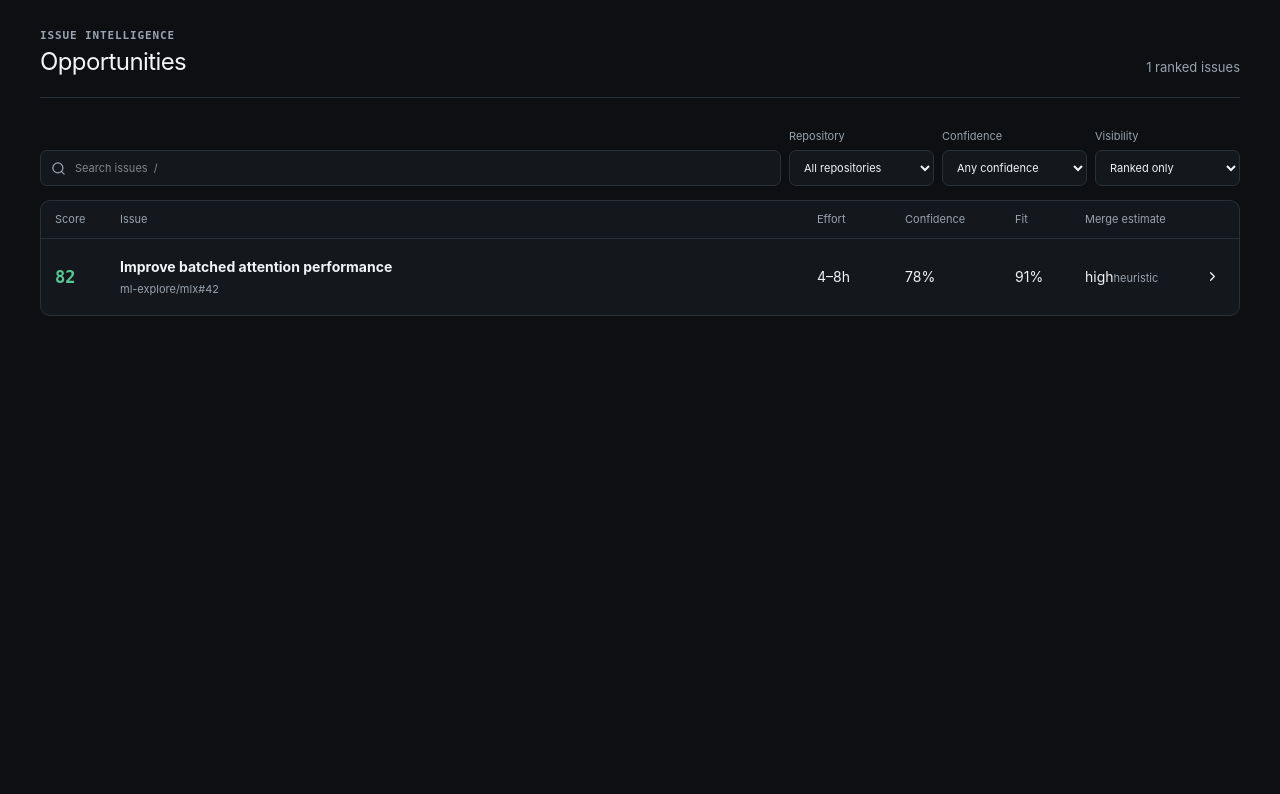
it: keeps filters in URL state and appends feedback
Type "attention" into the field labelled "Search issues" at (410, 168), box [40,150,781,186]
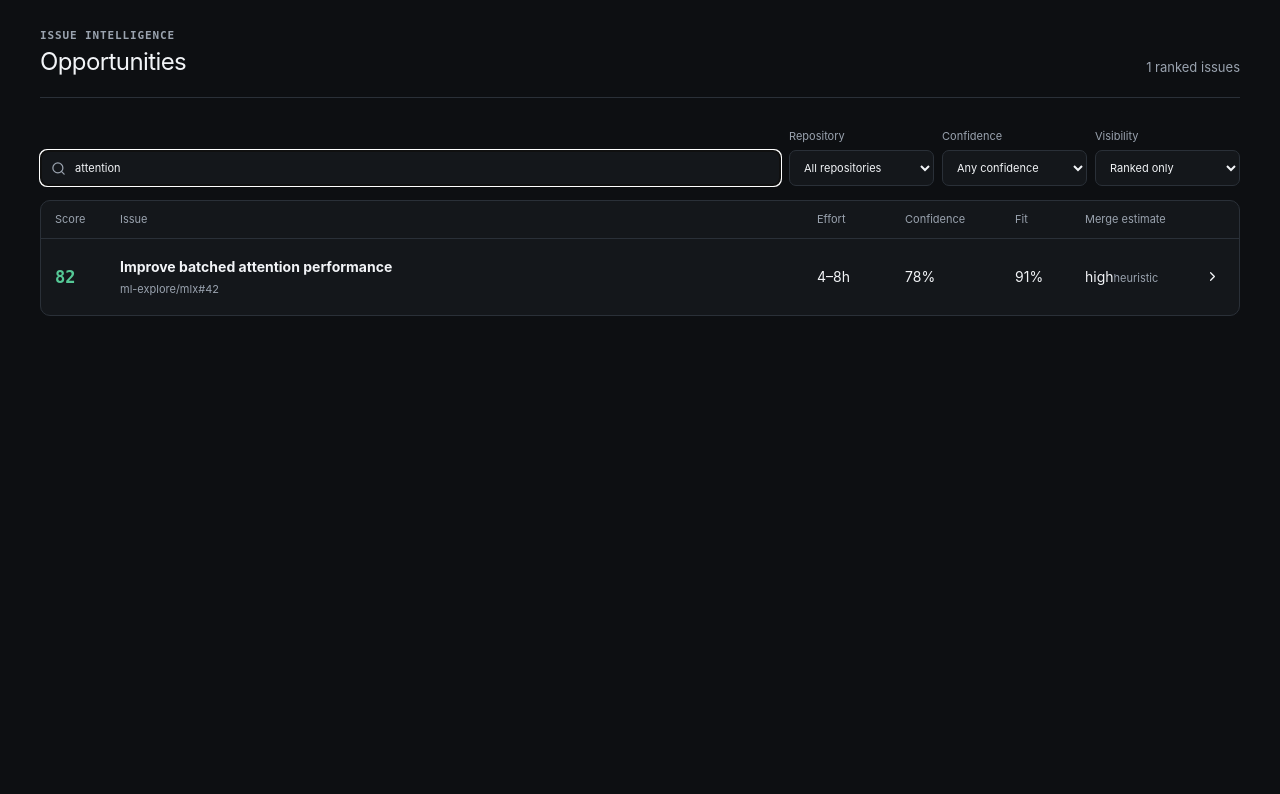
Click the button with aria-label "Open ml-explore/mlx issue 42" at (256, 266), box [41,238,1239,314]
(page scrolled)
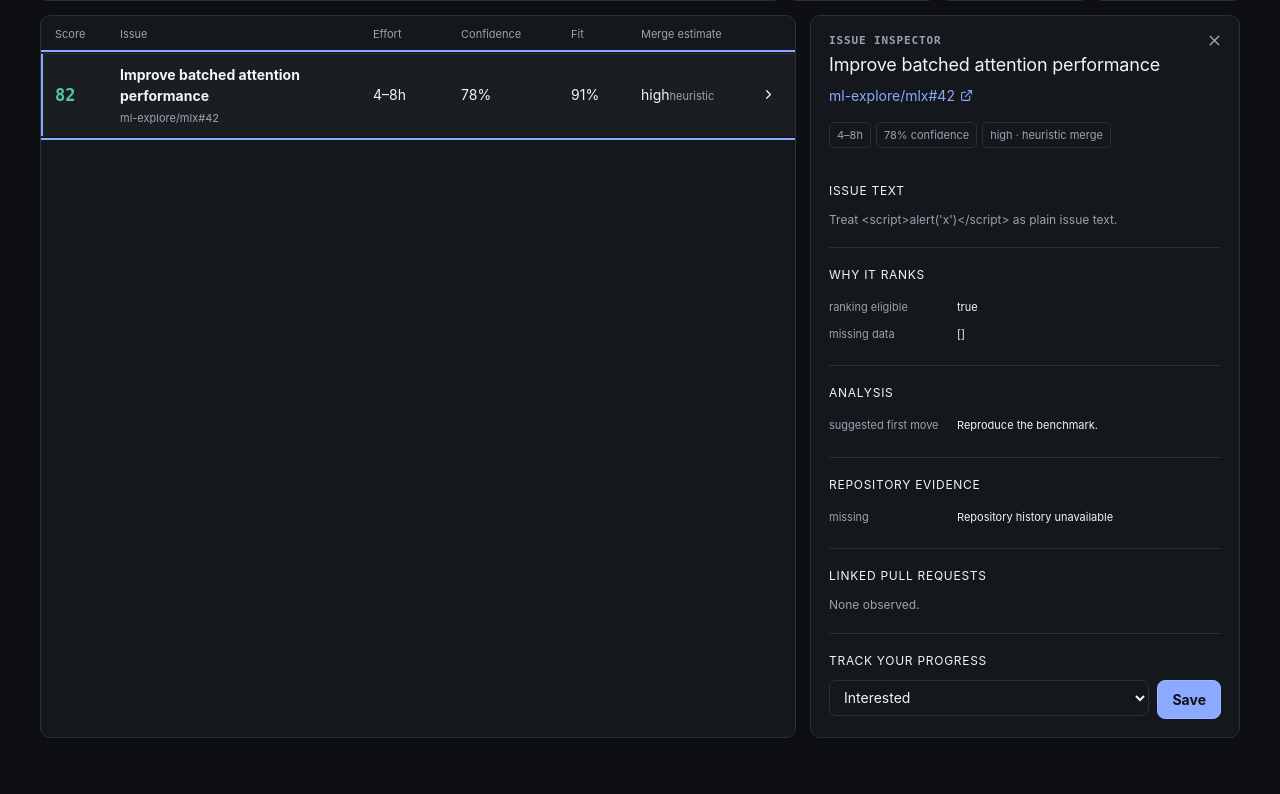
Click the button "Save" at (1189, 699), box [1158,680,1221,719]
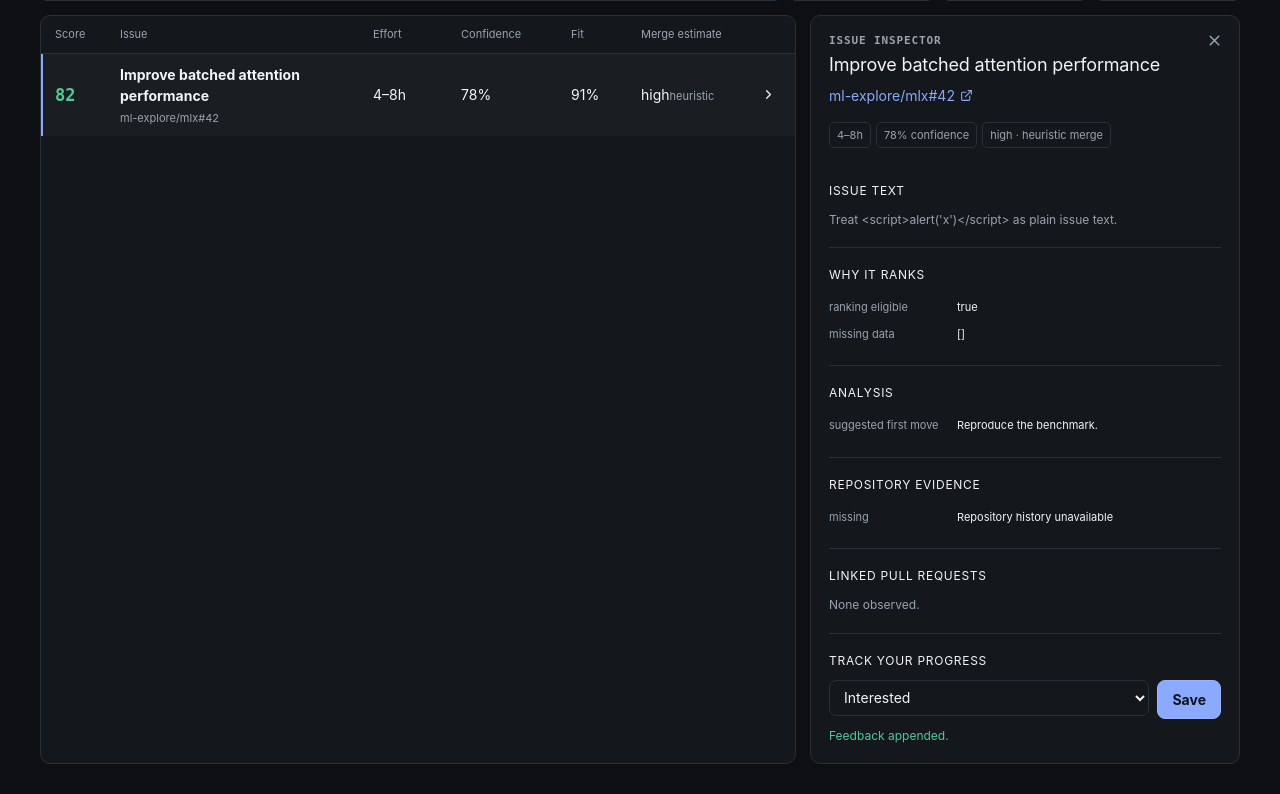
Result: the text "Feedback appended." is shown at [829,728,949,743]
